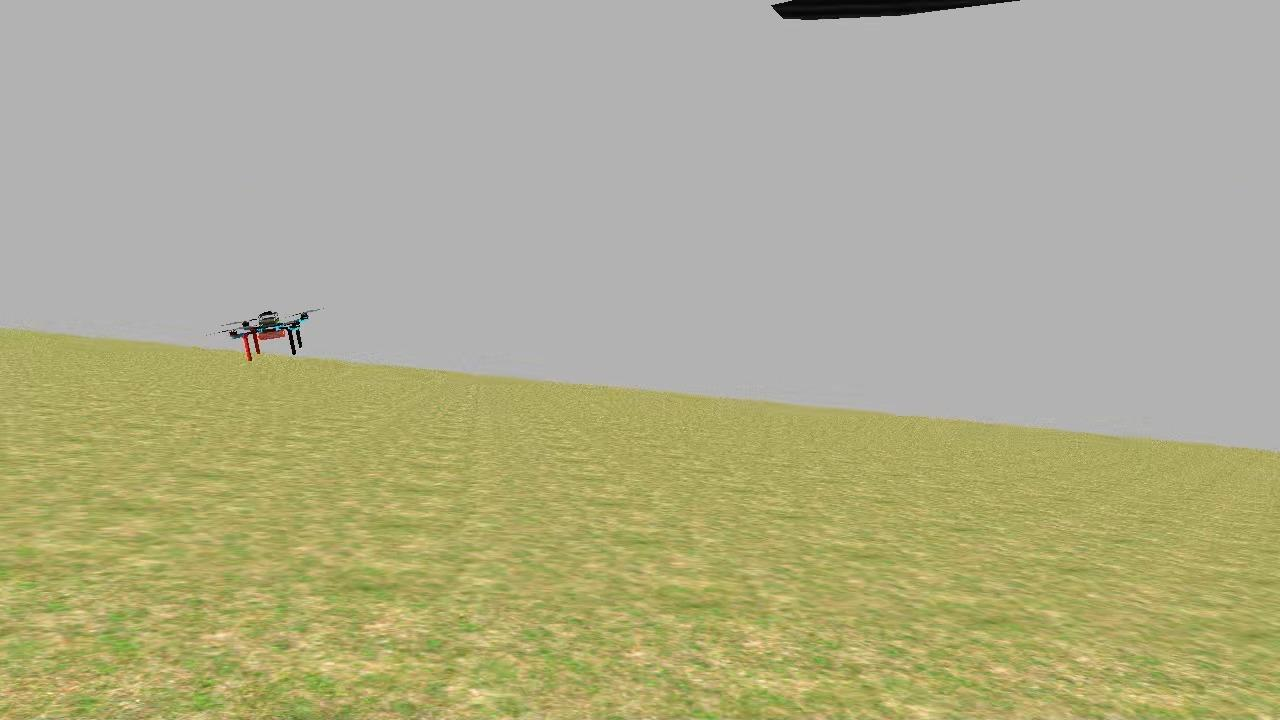UAV: (226, 308, 310, 360)
